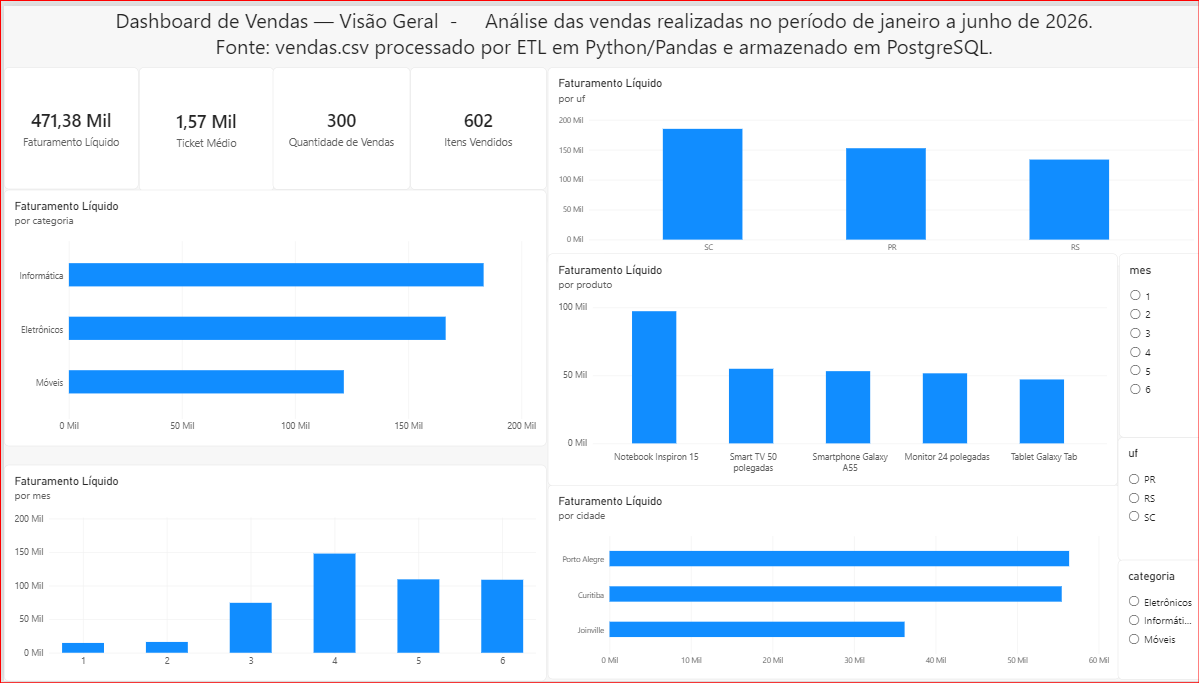

What the dashboard file says about the page in this screenshot:
{"tool":"powerbi","page":{"name":"Visão Geral de Vendas","canvas":[1920,1080],"ordinal":0},"visuals":[{"type":"card","fields":{"Values":["fato_vendas.Faturamento Líquido"]},"box":[0,98,215.3,195.4],"z":0},{"type":"card","fields":{"Values":["fato_vendas.Ticket Médio"]},"box":[216,98,216,198],"z":1000},{"type":"card","fields":{"Values":["fato_vendas.Quantidade de Vendas"]},"box":[430,98,220,196],"z":2000},{"type":"card","fields":{"Values":["fato_vendas.Itens Vendidos"]},"box":[650,98,218,196],"z":3000},{"type":"clusteredBarChart","fields":{"Category":["dim_produto.categoria"],"Y":["fato_vendas.Faturamento Líquido"]},"box":[0,294,868,410],"z":4000},{"type":"clusteredColumnChart","fields":{"Category":["dim_data.mes"],"Y":["fato_vendas.Faturamento Líquido"]},"box":[0,734,868,346],"z":5000},{"type":"clusteredColumnChart","fields":{"Category":["dim_localidade.uf"],"Y":["fato_vendas.Faturamento Líquido"]},"box":[870,98,1052,318],"z":6000},{"type":"barChart","fields":{"Category":["dim_localidade.cidade"],"Y":["fato_vendas.Faturamento Líquido"]},"box":[869.6,766.6,915.7,311.3],"z":7000},{"type":"listSlicer","fields":{"Values":["dim_data.mes"]},"box":[1784,396,136,294],"z":8000},{"type":"listSlicer","fields":{"Values":["dim_localidade.uf"]},"box":[1782.5,689.5,137.5,197.3],"z":9000},{"type":"listSlicer","fields":{"Values":["dim_produto.categoria"]},"box":[1782,886,138,192],"z":10000},{"type":"clusteredColumnChart","fields":{"Category":["dim_produto.produto"],"Y":["fato_vendas.Faturamento Líquido"]},"box":[870,396,912,372],"z":12000},{"type":"textbox","box":[0,0,1920,98],"z":12001}]}

Visuals, with their boxes in screenshot pixels (x1, y1, x2, y2), scaled from the page's 1920x1080 canvas onto the 1199x683 screenshot:
card - fato_vendas.Faturamento Líquido: rect(0, 62, 134, 186)
card - fato_vendas.Ticket Médio: rect(135, 62, 270, 187)
card - fato_vendas.Quantidade de Vendas: rect(269, 62, 406, 186)
card - fato_vendas.Itens Vendidos: rect(406, 62, 542, 186)
clusteredBarChart - dim_produto.categoria x fato_vendas.Faturamento Líquido: rect(0, 186, 542, 445)
clusteredColumnChart - dim_data.mes x fato_vendas.Faturamento Líquido: rect(0, 464, 542, 682)
clusteredColumnChart - dim_localidade.uf x fato_vendas.Faturamento Líquido: rect(543, 62, 1198, 263)
barChart - dim_localidade.cidade x fato_vendas.Faturamento Líquido: rect(543, 485, 1115, 682)
listSlicer - dim_data.mes: rect(1114, 250, 1198, 436)
listSlicer - dim_localidade.uf: rect(1113, 436, 1198, 561)
listSlicer - dim_produto.categoria: rect(1113, 560, 1198, 682)
clusteredColumnChart - dim_produto.produto x fato_vendas.Faturamento Líquido: rect(543, 250, 1113, 486)
textbox: rect(0, 0, 1198, 62)
